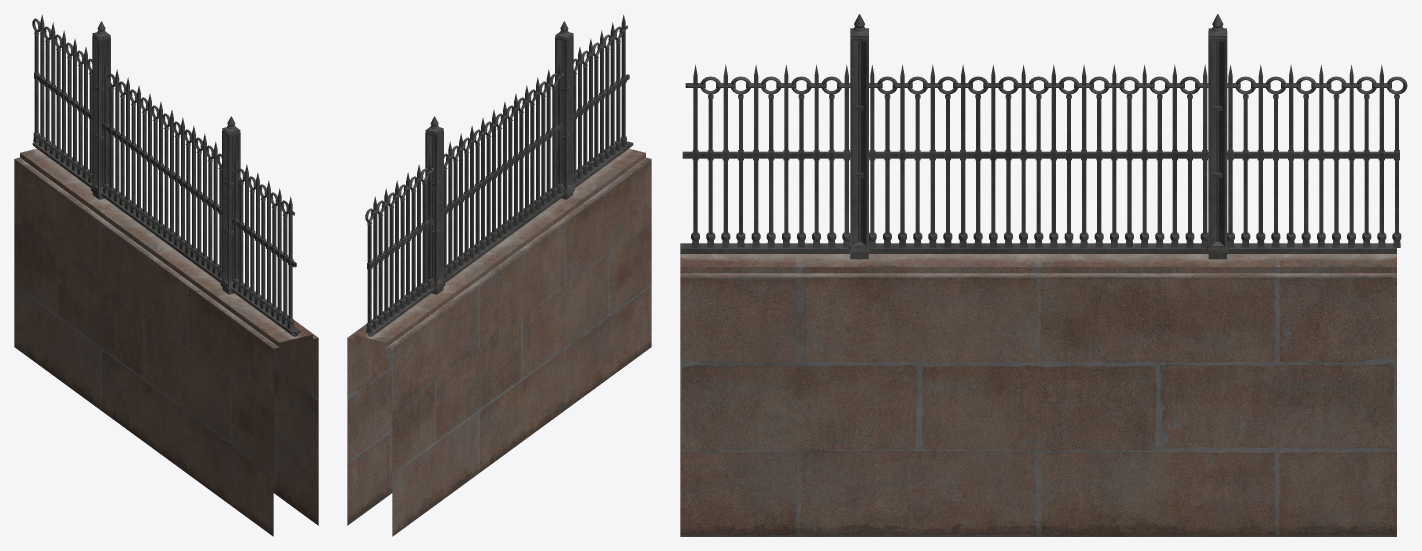
File: SM_Fence_01.fbx
3 renders of one model, left to right at view 1: azimuth 30°, elevation 25°; view 2: azimuth 150°, elevation 25°; view 3: azimuth 270°, elevation 25°, orthographic. The views are drawn at different scales.
Visible parts, largest first — view 1: SM_Fence_01_LOD0; view 2: SM_Fence_01_LOD0; view 3: SM_Fence_01_LOD0.
Boxes of the visible parts, x1=… form: SM_Fence_01_LOD0: x1=14, y1=14, x2=318, y2=536; SM_Fence_01_LOD0: x1=347, y1=14, x2=651, y2=536; SM_Fence_01_LOD0: x1=680, y1=14, x2=1407, y2=536.
Bounding box in the file's own units: 20 × 203 × 156.
2 materials, 2 textured.
